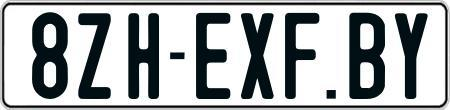8: (29, 12, 69, 104)
B: (346, 12, 385, 100)
E: (196, 11, 234, 101)
F: (284, 11, 324, 100)
H: (125, 11, 156, 102)
X: (241, 11, 280, 97)
Y: (392, 11, 430, 98)
Z: (77, 11, 112, 100)
